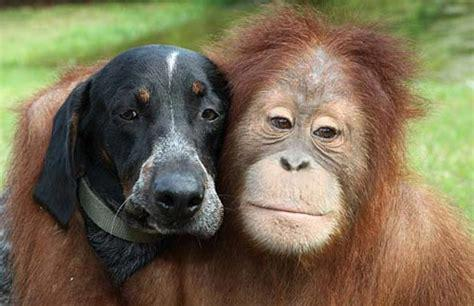dog: (34, 43, 228, 282)
monkey: (12, 7, 474, 306)
